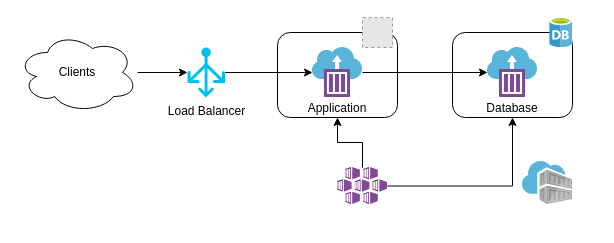
The diagram is 614 pixels wide and 243 high, and some of its shapes have lost their labels. Grey dashed boxes stand in for pictures. The shapes that lost their labels are listed below. From the top down, each one's centre as x and y in pixels, then its label:
the point at 362,185: Kubernetes
the point at 547,182: Container Registry
